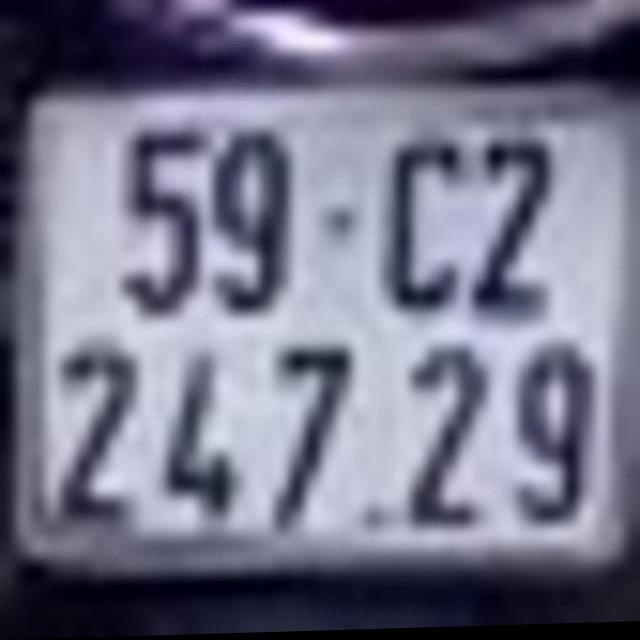2: (54, 335, 148, 528), (398, 334, 486, 536), (466, 129, 555, 323)
4: (160, 333, 243, 544)
5: (118, 122, 200, 317)
7: (250, 335, 351, 550)
9: (504, 332, 594, 533), (210, 120, 294, 327)
C: (384, 131, 462, 317)
